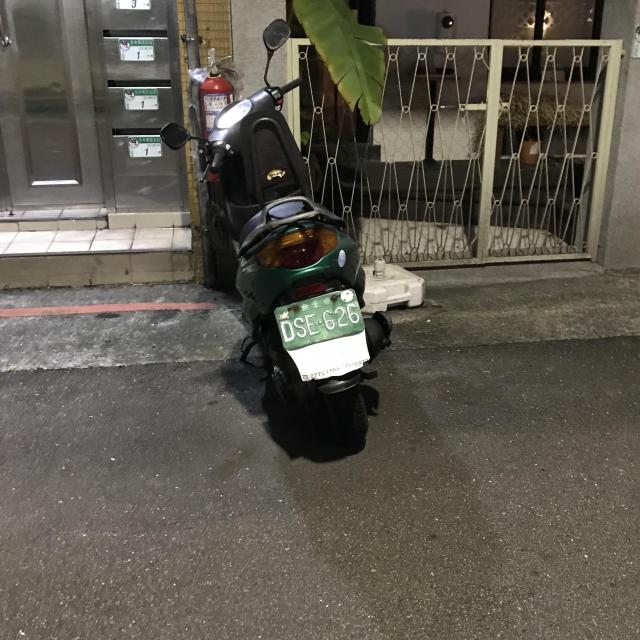GW: (271, 287, 369, 348)
